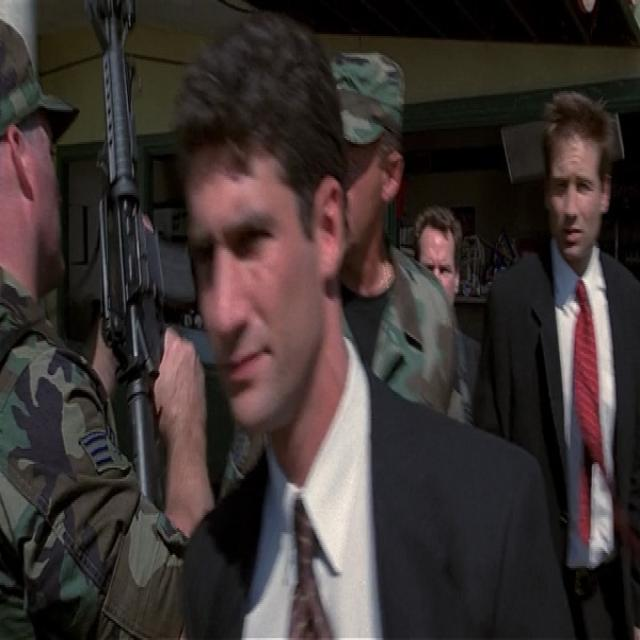rifle: (84, 1, 177, 508)
